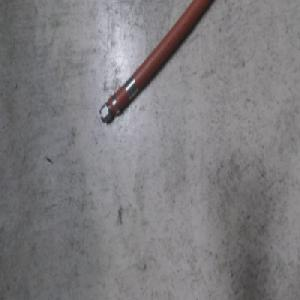Hose: (97, 0, 215, 125)
